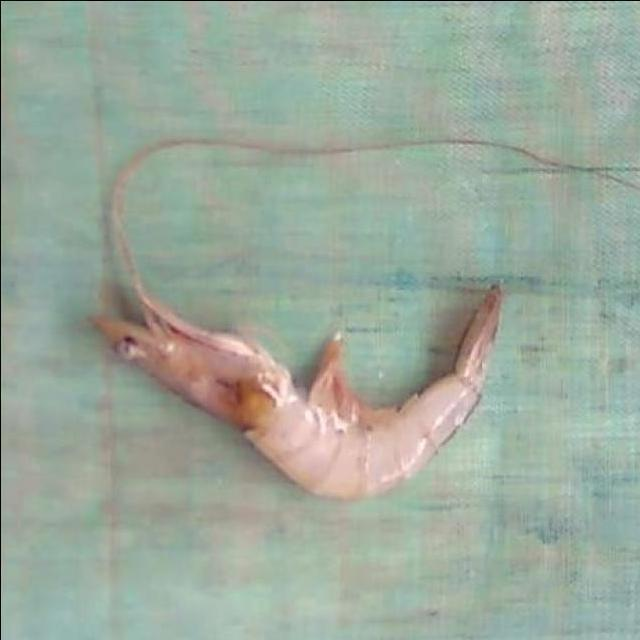shrimp: (93, 276, 503, 498)
